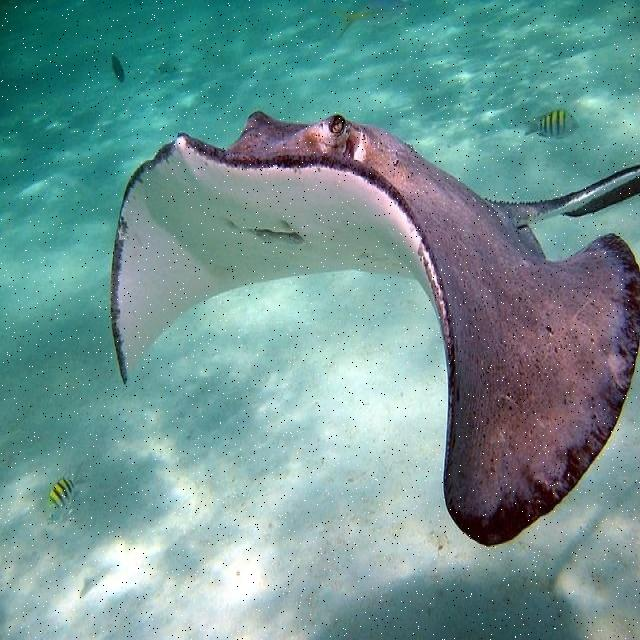fish: (110, 110, 639, 546), (332, 1, 410, 39), (46, 458, 90, 523), (524, 109, 580, 139), (112, 55, 124, 82)
